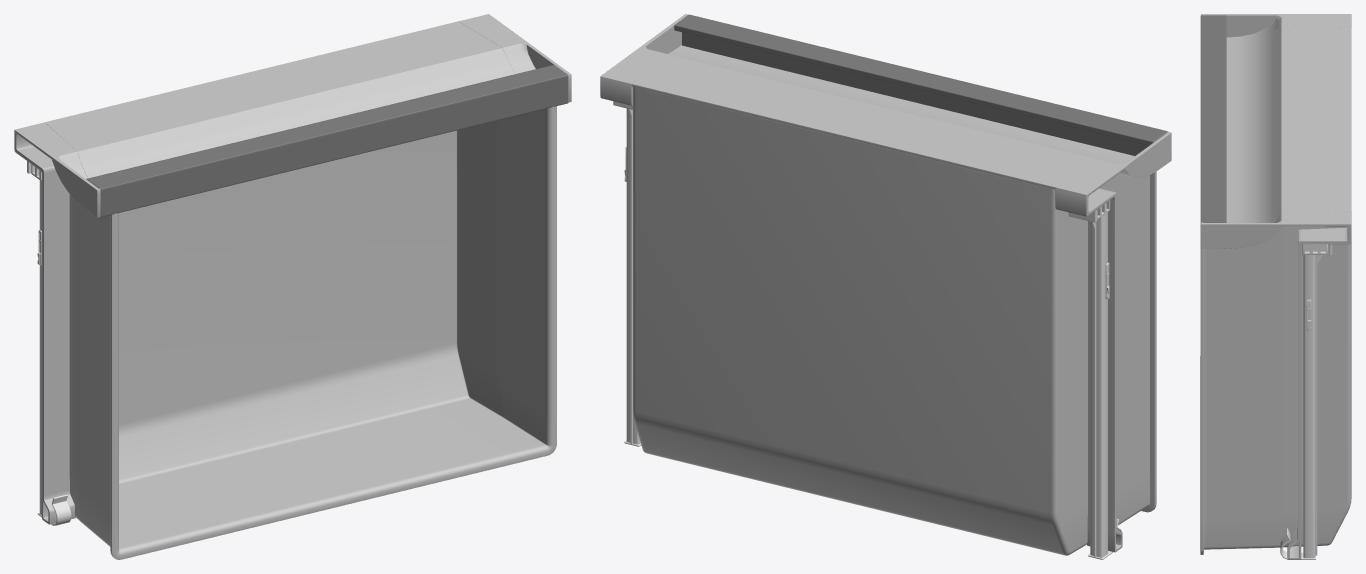
The model's file is SM_Fridge_Drawer_02.obj.
3 views of the same model, side by side, from view 1: azimuth 30°, elevation 25°; view 2: azimuth 150°, elevation 25°; view 3: azimuth 270°, elevation 25° (orthographic). The views are drawn at different scales.
Visible parts, largest first — view 1: SM_Fridge_Drawer_02; view 2: SM_Fridge_Drawer_02; view 3: SM_Fridge_Drawer_02.
Boxes of the visible parts, x1,y1,x2,y2 form: SM_Fridge_Drawer_02: (14,14,571,559); SM_Fridge_Drawer_02: (600,14,1171,559); SM_Fridge_Drawer_02: (1200,14,1351,559).
Bounding box in the file's own units: 0.4543 × 0.3436 × 0.138.
